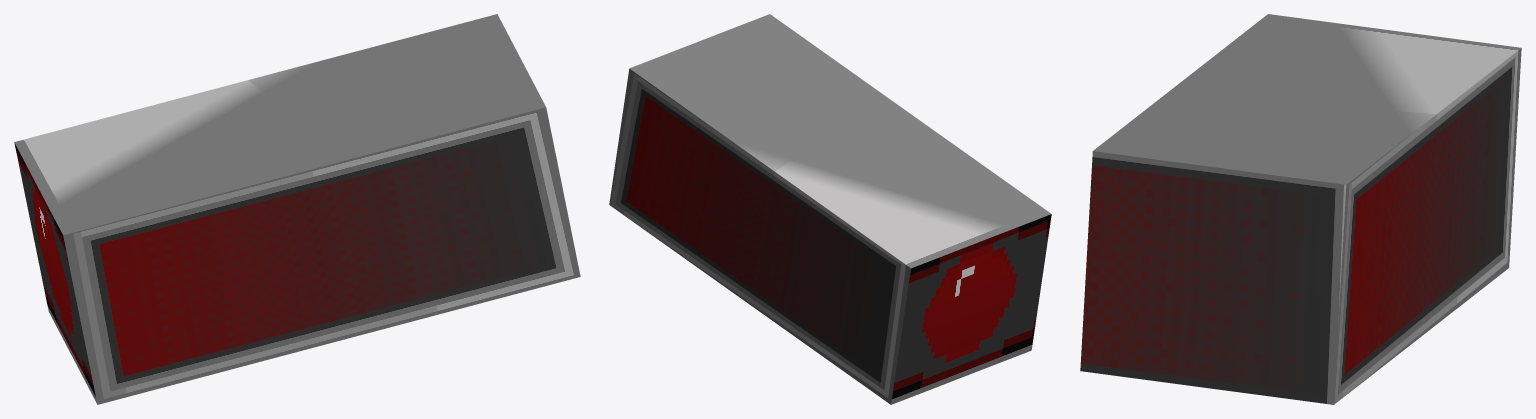
Rendered from CameraAnim.glb.
3 views of the same model, side by side, from view 1: azimuth 30°, elevation 25°; view 2: azimuth 150°, elevation 25°; view 3: azimuth 270°, elevation 25° (orthographic). The views are drawn at different scales.
Visible parts, largest first — view 1: Cube.002; view 2: Cube.002; view 3: Cube.002.
Part boxes in pixels (<box>): Cube.002: <box>14,14,580,404</box>; Cube.002: <box>609,14,1051,404</box>; Cube.002: <box>1080,14,1521,404</box>.
Bounding box in the file's own units: 2.88 × 1.42 × 1.89.
Materials: 1 (1 with a texture image).
